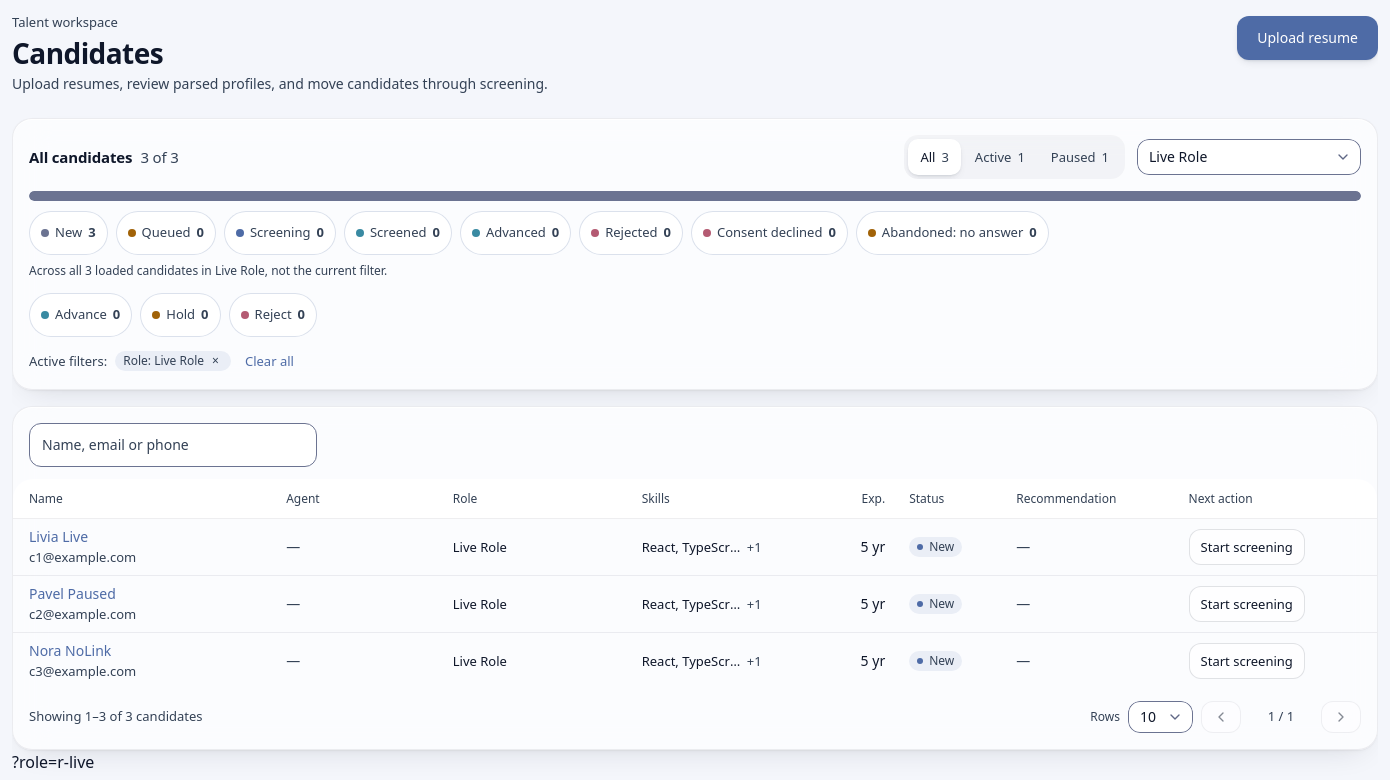
Active / Paused is attributed per candidate, and intersects with ?role= › choosing a segment KEEPS the role; ?role= and ?ashby= are both in the URL
expect the link "Livia Live" is shown: met, box [29,527,88,546]
Click the button "Paused 1" at (1080, 157), box [1039,139,1121,175]
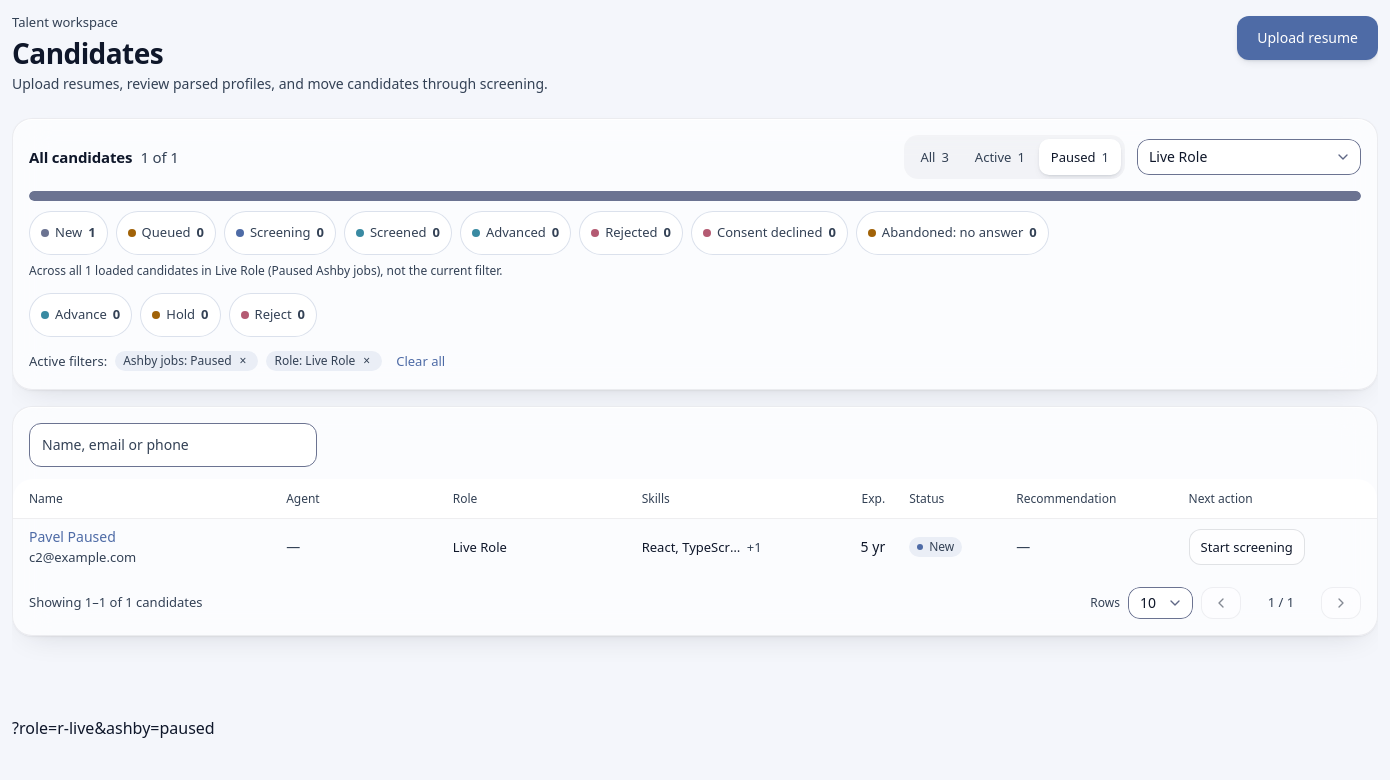
expect the text with test id "location" shows "role=r-live": met, box [12,717,215,739]
expect the text with test id "location" shows "ashby=paused": met, box [12,717,215,739]
